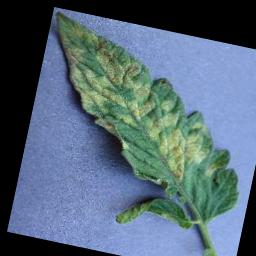Leaf_Mold: (28, 12, 230, 185)
